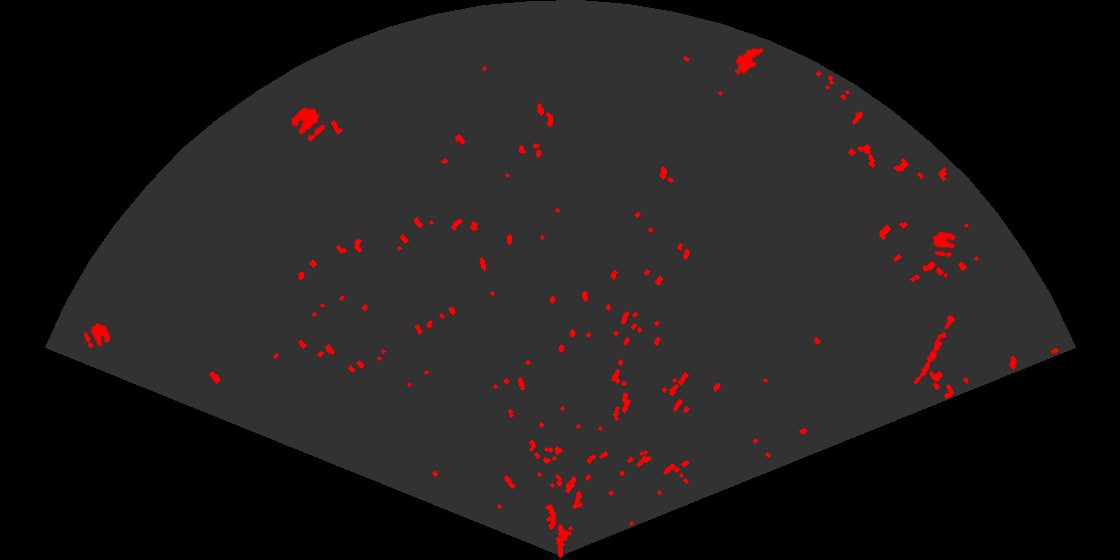AUV: (732, 47, 765, 76)
ball: (290, 106, 327, 143), (82, 322, 112, 350), (931, 230, 958, 259)
chain: (912, 310, 958, 386)
